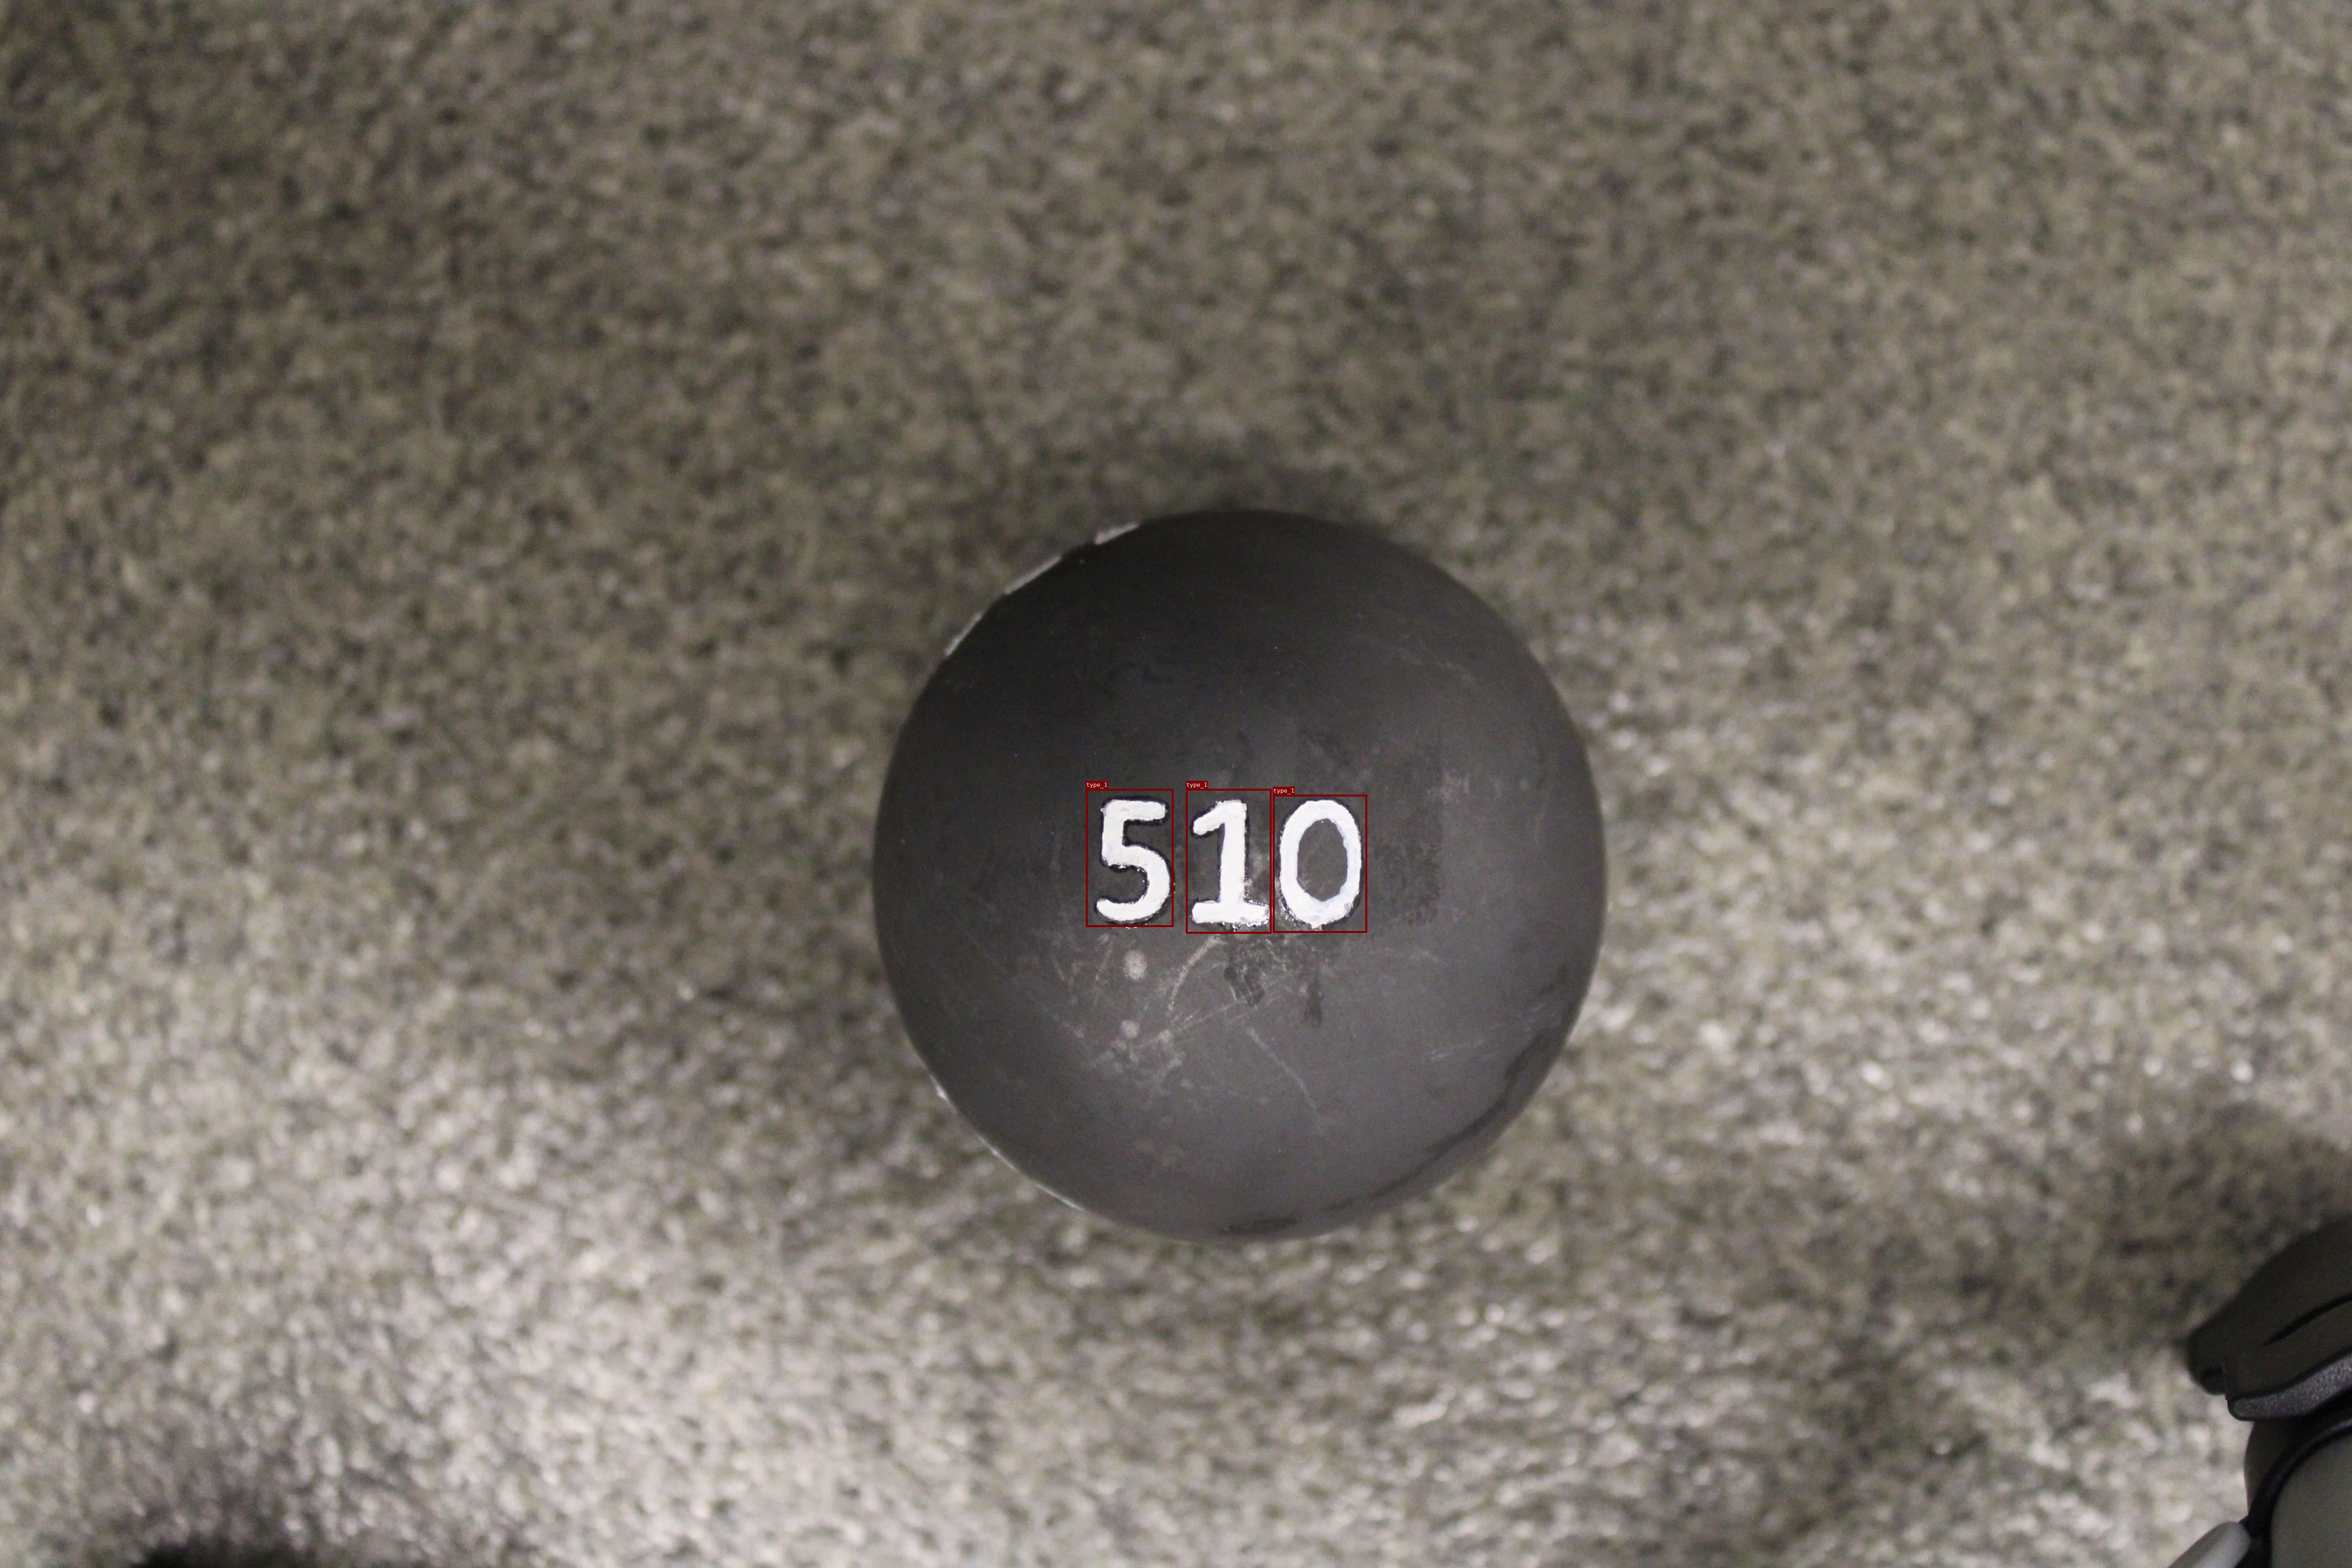type_1: (1272, 795, 1367, 933), (1085, 789, 1172, 927), (1186, 789, 1270, 933)
